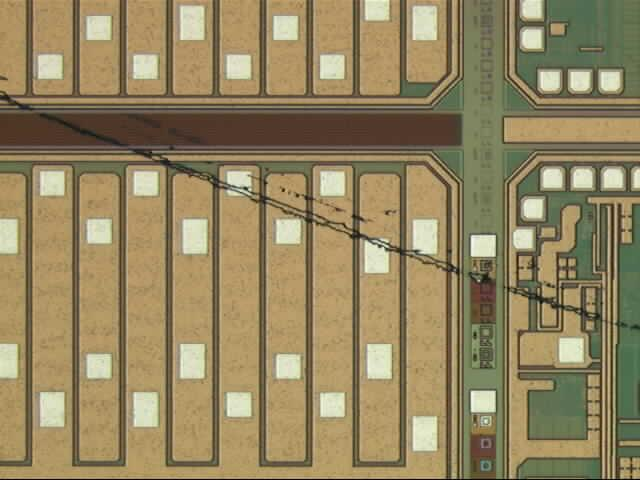SCRATCH: (1, 71, 640, 339)
